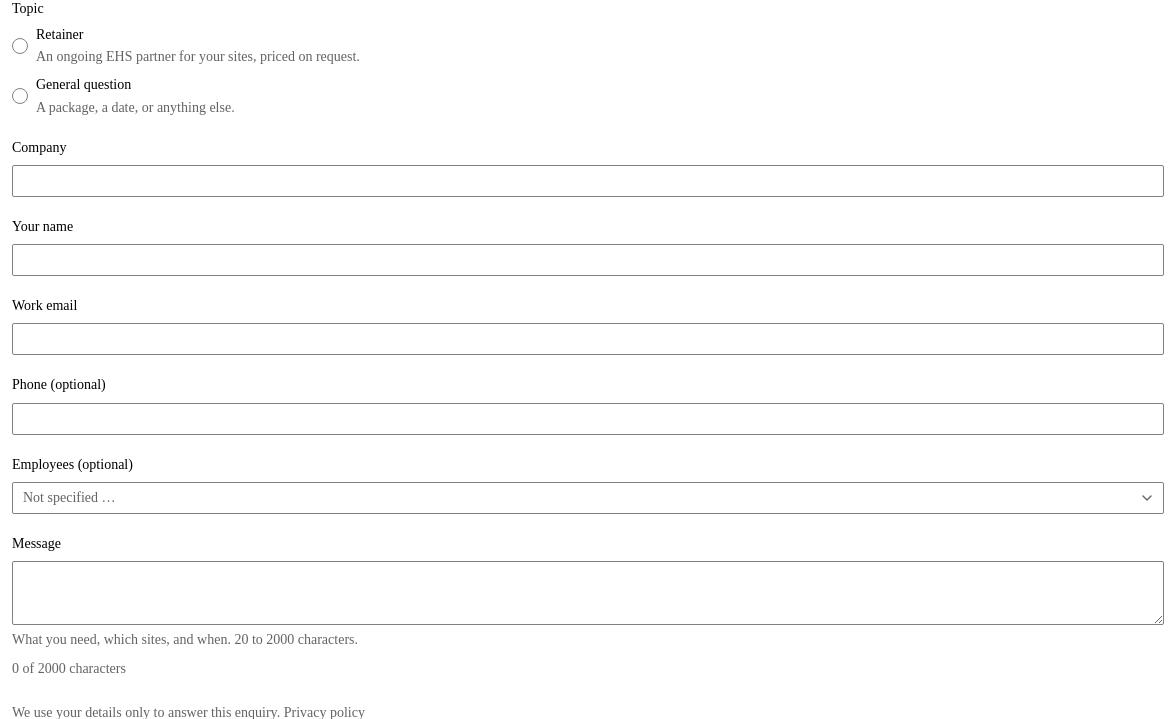
Test: EnquiryForm (AC-8) › announces an unavailable database with the contact address
Step 1. Type "Muster AG" into the field labelled "Company" → coordinates (588, 181), box x1=12 y1=165 x2=1164 y2=197
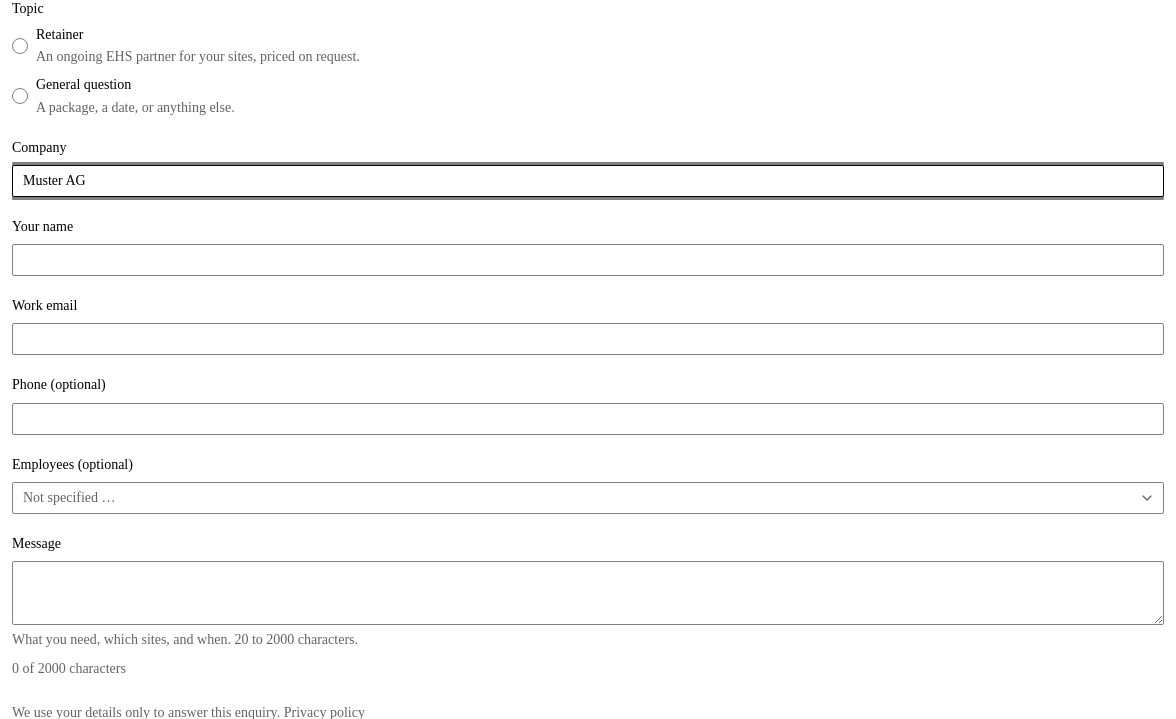
Step 2. Type "Clara Muster" into the field labelled "Your name" → coordinates (588, 260), box x1=12 y1=244 x2=1164 y2=276
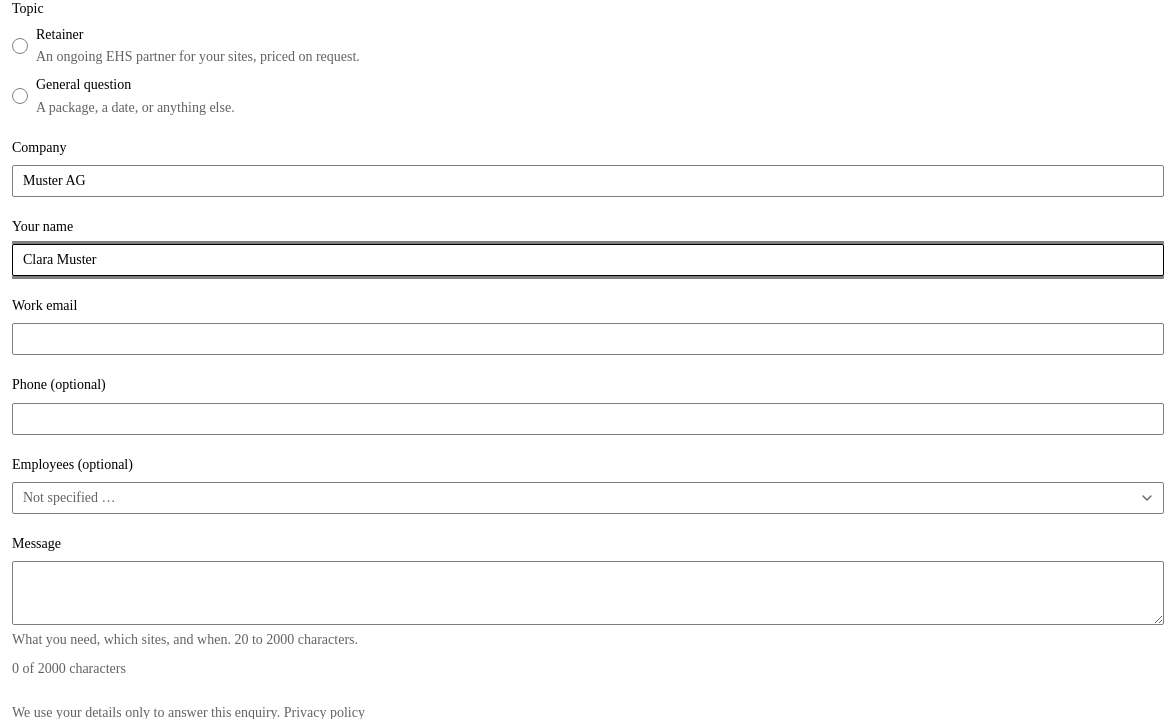
Step 3. Type "Clara@Example.test" into the field labelled "Work email" → coordinates (588, 339), box x1=12 y1=323 x2=1164 y2=355
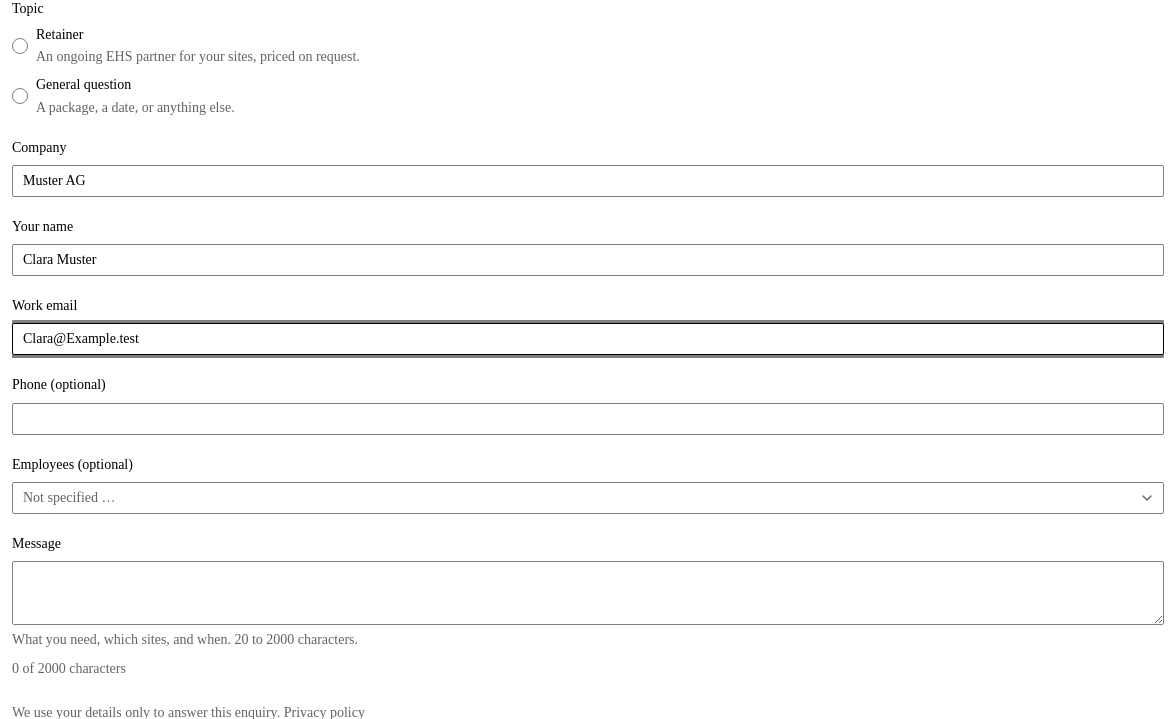
Step 4. Type "We run three sites in Aargau and need a partner for the audits." into the text box labelled "Message" → coordinates (588, 593), box x1=12 y1=561 x2=1164 y2=625
(page scrolled)
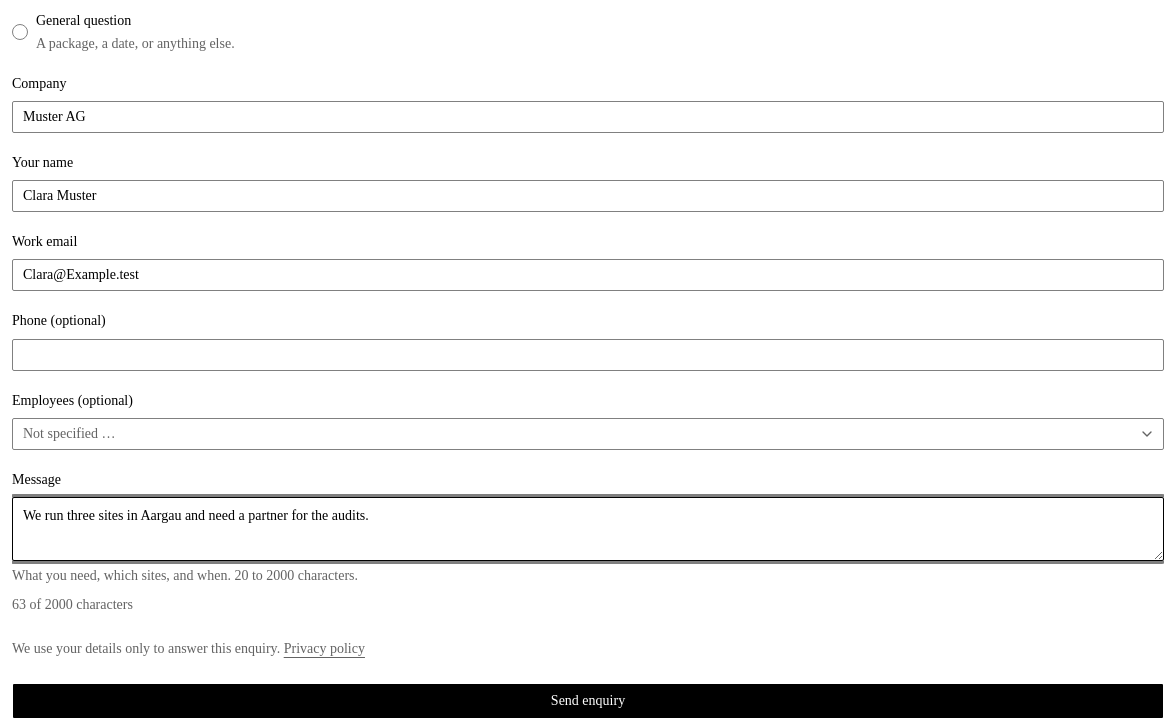
Step 5. Click the button "Send enquiry" → coordinates (588, 701), box x1=12 y1=683 x2=1164 y2=718
(page scrolled)
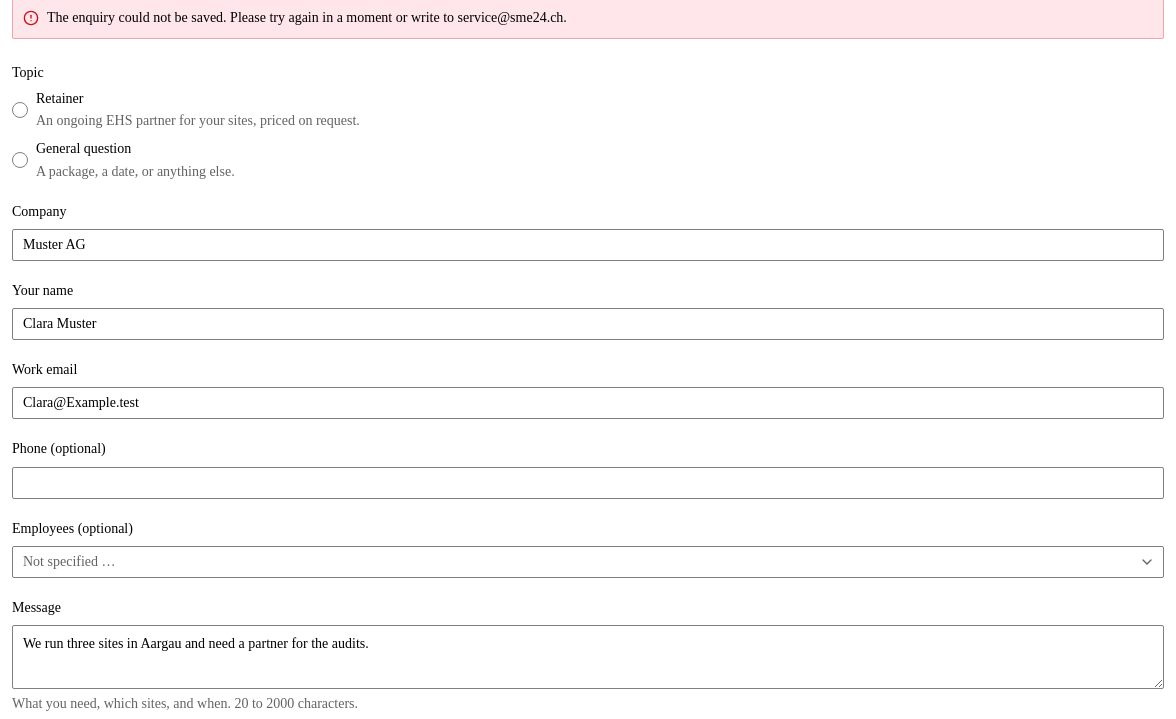
Expected: the message shows "The enquiry could not be saved. Please try again in a moment or write to service@sme24.ch.", x1=47 y1=10 x2=567 y2=25
